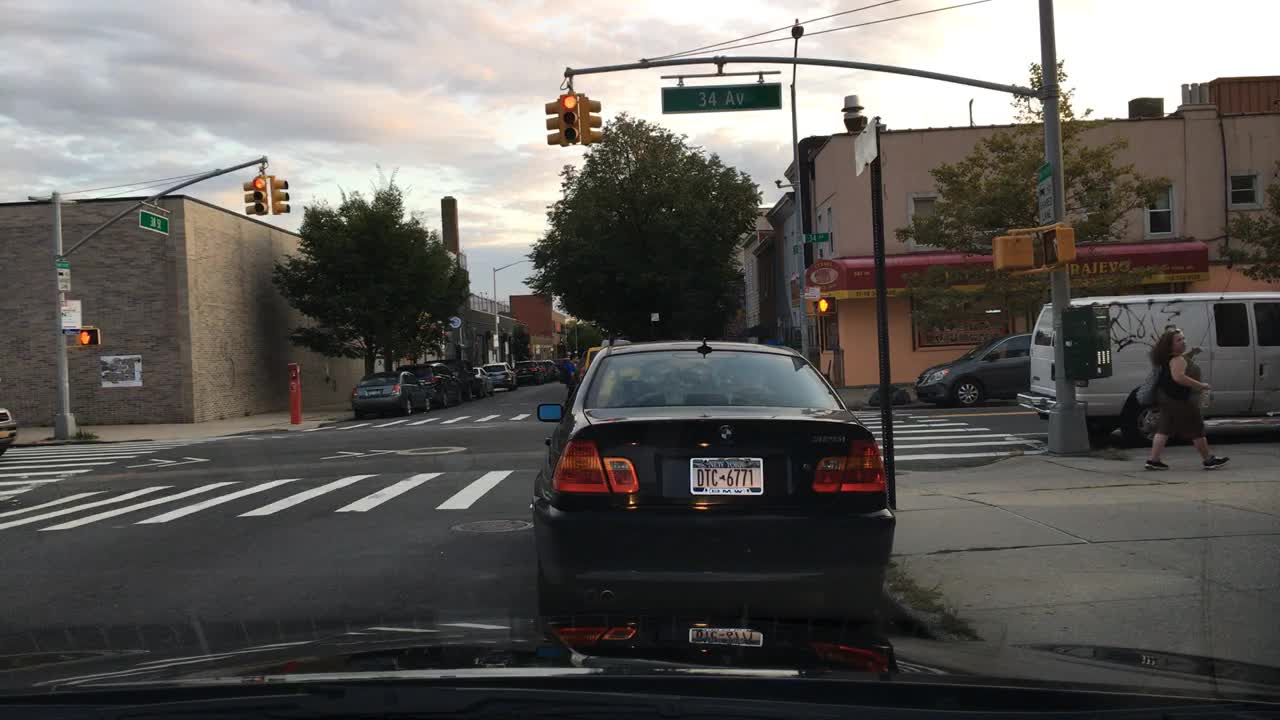car: (528, 339, 894, 636), (911, 327, 1034, 410), (349, 369, 428, 422), (396, 359, 464, 410), (444, 356, 482, 401), (509, 358, 546, 386), (482, 361, 514, 390), (469, 368, 494, 401), (0, 408, 15, 457), (584, 342, 606, 369), (543, 358, 562, 381)
person: (1132, 327, 1230, 474), (560, 349, 579, 385)
traffic light: (579, 93, 609, 145), (1041, 224, 1078, 266), (994, 233, 1031, 272), (543, 98, 563, 145), (562, 94, 580, 142), (271, 179, 292, 216), (241, 180, 258, 214), (253, 177, 266, 212), (77, 327, 99, 347), (815, 295, 837, 314)
traffic sign: (660, 83, 784, 115), (850, 116, 881, 174), (1036, 162, 1054, 219), (138, 212, 170, 238), (59, 300, 79, 334), (52, 258, 72, 290), (801, 229, 827, 246)
truck: (1014, 288, 1279, 445)
